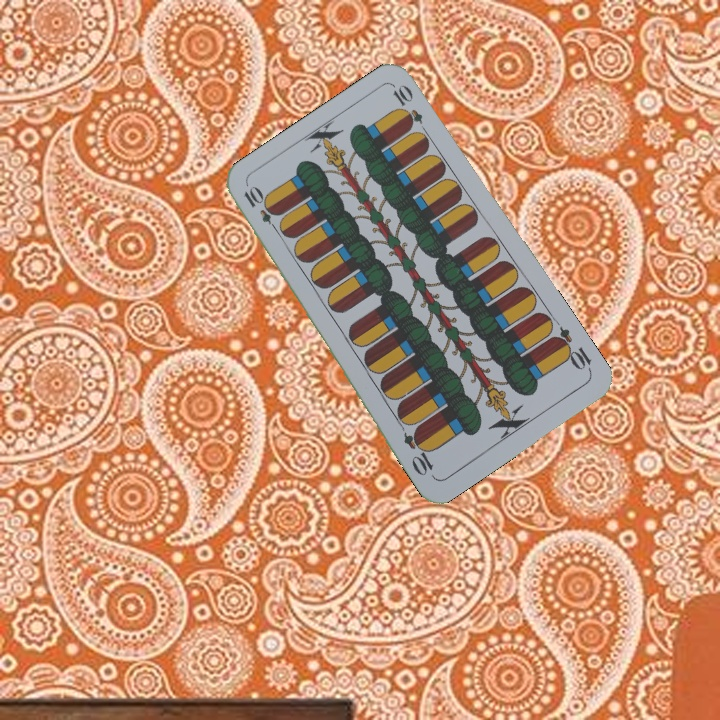E10: (548, 323, 595, 375), (239, 183, 283, 236)
